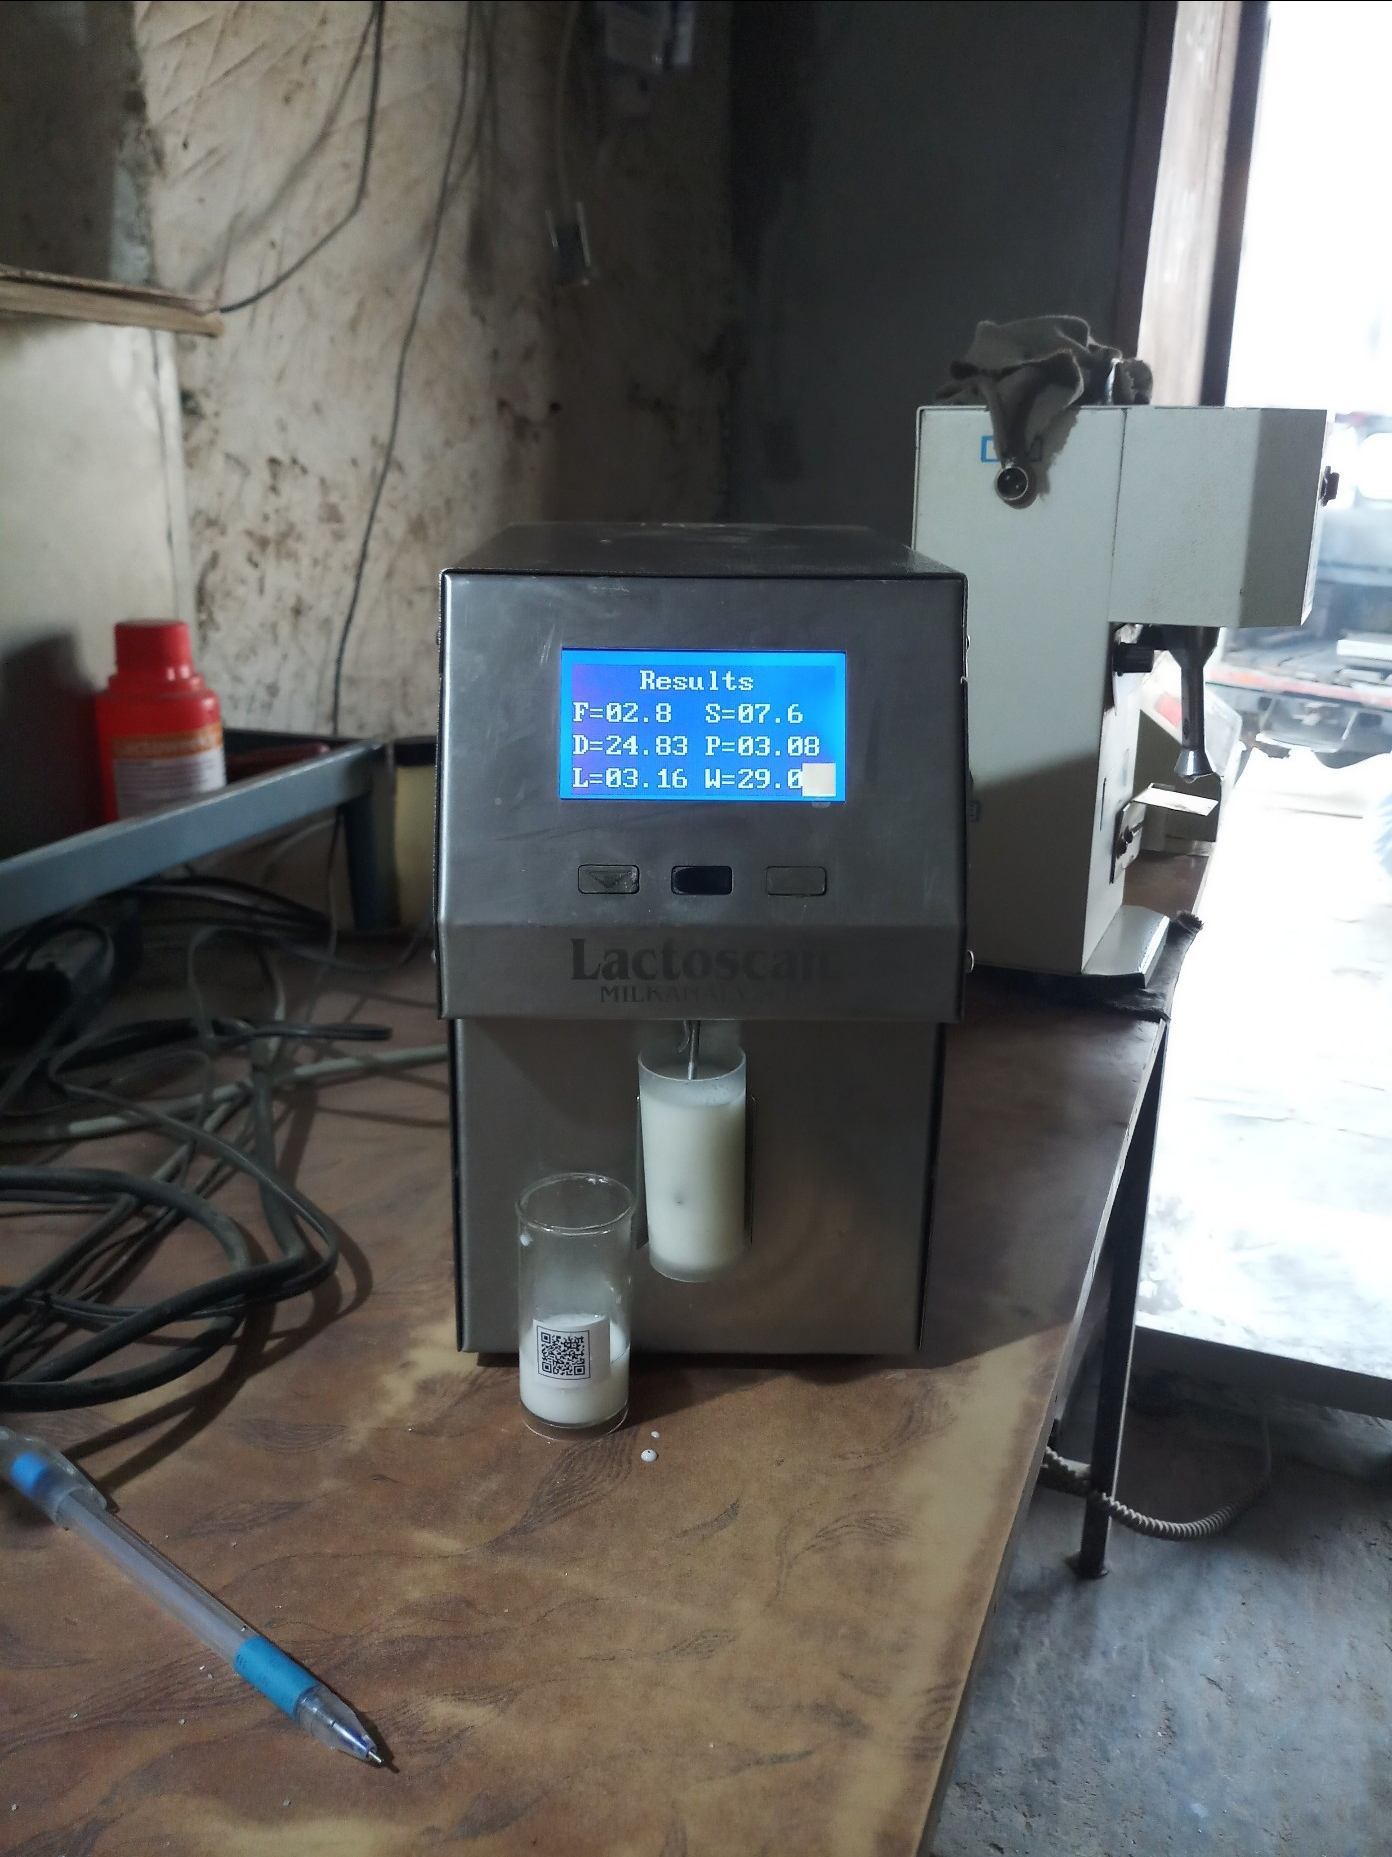lcd: (557, 645, 857, 812)
qr: (528, 1322, 594, 1385)
